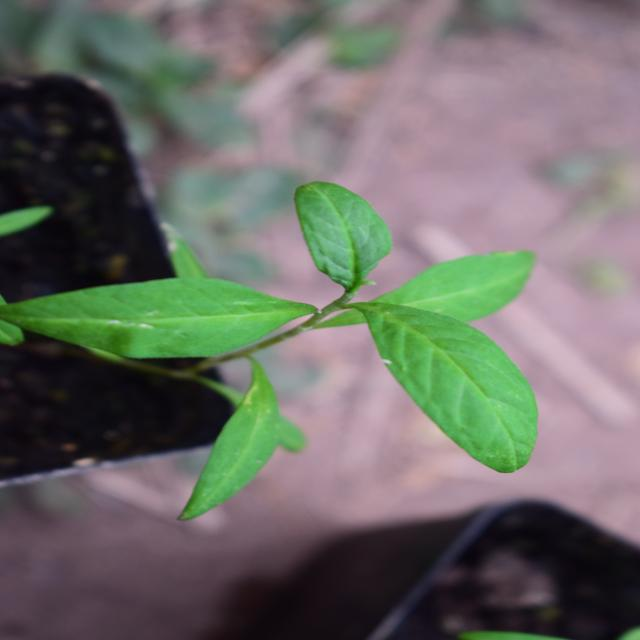white_smart_weed: (157, 85, 490, 580)
